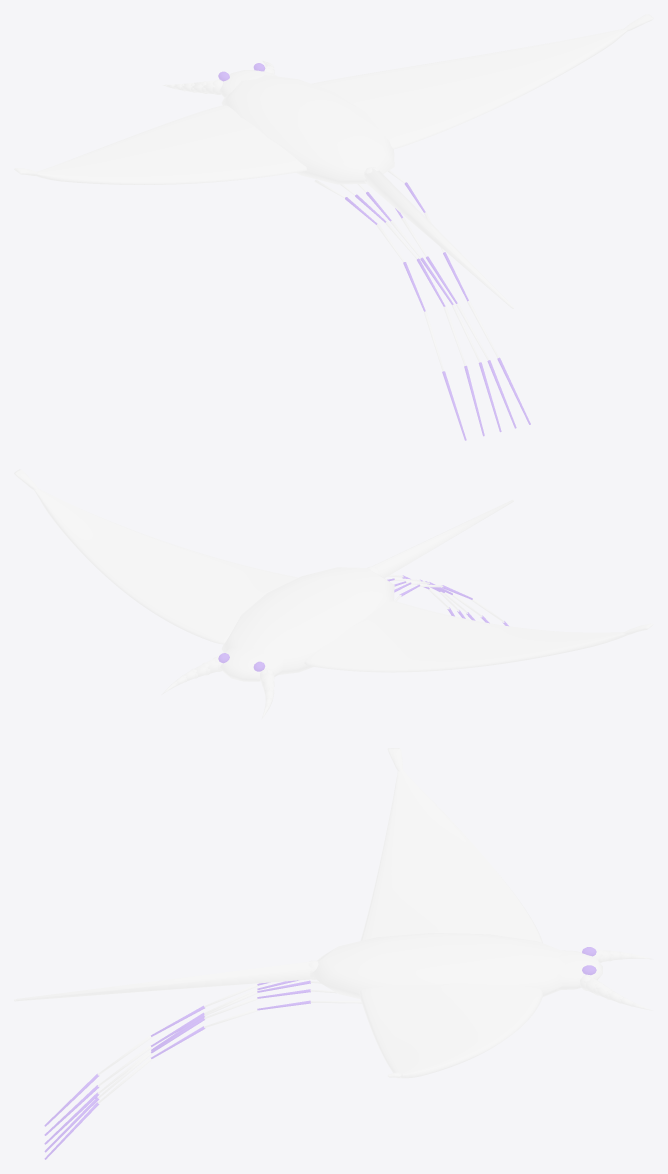
The model's file is veilray.glb.
The picture shows the model from 3 angles, top to bottom: view 1: azimuth 30°, elevation 25°; view 2: azimuth 150°, elevation 25°; view 3: azimuth 270°, elevation 25°; orthographic projection. The views are drawn at different scales.
Parts seen in each view (by area): view 1: ray_skin__WingR, ray_skin__WingL, ray_skin__Body, ray_skin__Tail, ray_glow__Tail; view 2: ray_skin__WingR, ray_skin__WingL, ray_skin__Body, ray_skin__Tail, ray_glow__Tail; view 3: ray_skin__WingL, ray_skin__Body, ray_skin__WingR, ray_skin__Tail, ray_glow__Tail.
Boxes of the visible parts, x1,y1,x2,y2 form: ray_skin__WingR: (311, 14, 653, 149); ray_skin__WingL: (14, 105, 306, 184); ray_skin__Body: (162, 60, 394, 184); ray_skin__Tail: (314, 167, 513, 371); ray_glow__Tail: (345, 182, 530, 440); ray_skin__WingR: (14, 469, 297, 644); ray_skin__WingL: (304, 600, 653, 672); ray_skin__Body: (161, 567, 394, 718); ray_skin__Tail: (367, 499, 513, 622); ray_glow__Tail: (387, 575, 508, 626); ray_skin__WingL: (360, 748, 542, 942); ray_skin__Body: (310, 933, 653, 1010); ray_skin__WingR: (359, 983, 543, 1078); ray_skin__Tail: (14, 960, 361, 1103); ray_glow__Tail: (44, 980, 310, 1159).
Size of the model in its own units: 4.68 by 1.55 by 3.86.
